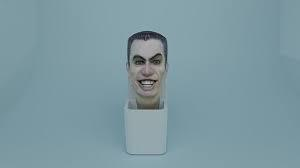skibidi-toilet: (127, 31, 168, 98)
